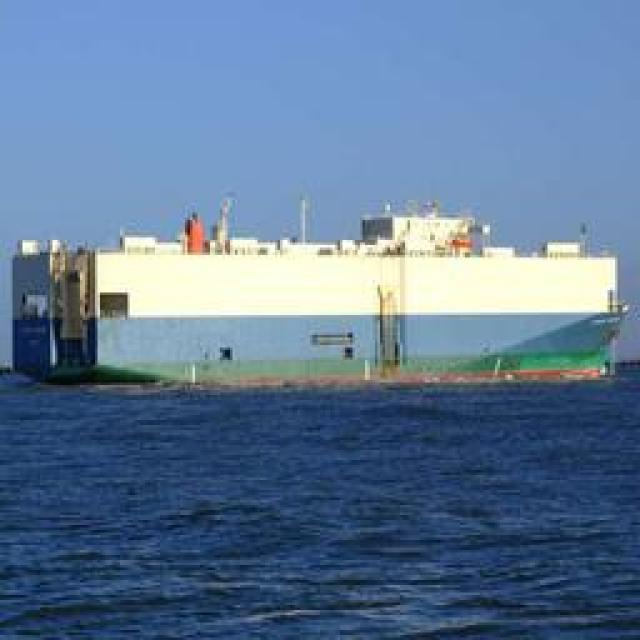CIV_Ship: (75, 241, 628, 379)
